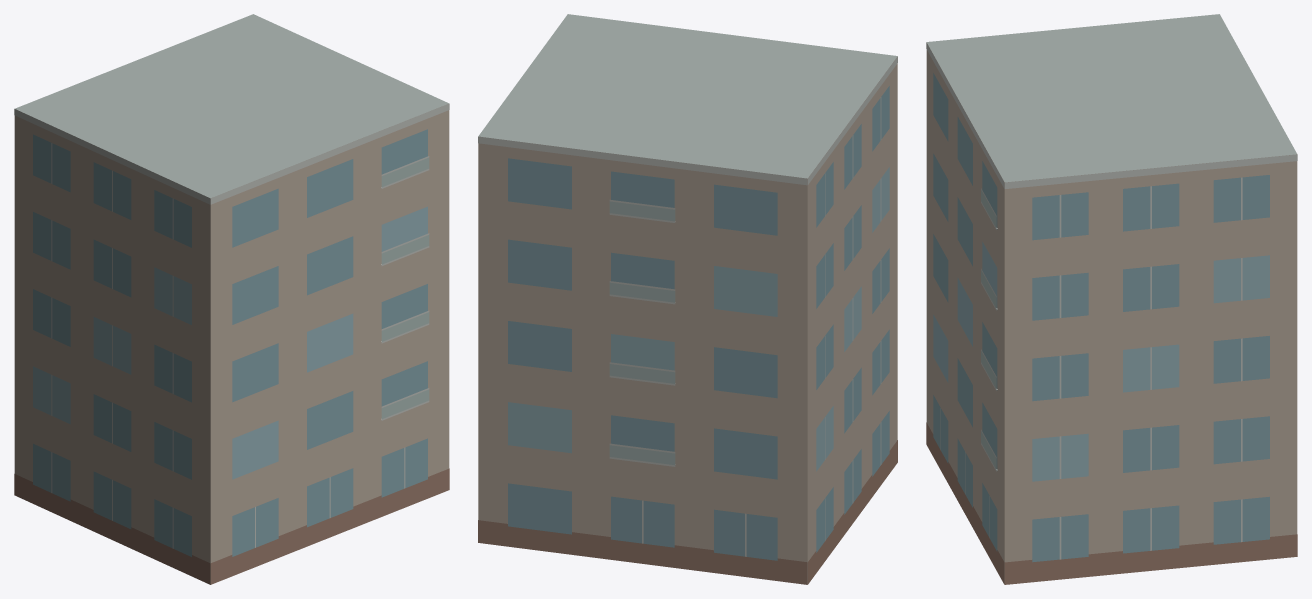
File: survey-upis-32671609.glb
The picture shows the model from 3 angles, left to right: view 1: azimuth 30°, elevation 25°; view 2: azimuth 150°, elevation 25°; view 3: azimuth 270°, elevation 25°; orthographic projection. The views are drawn at different scales.
Visible parts, largest first — view 1: survey-upis-32671609.tmp; view 2: survey-upis-32671609.tmp; view 3: survey-upis-32671609.tmp.
Boxes of the visible parts, left/top/right/bottom form: survey-upis-32671609.tmp: left=14, top=14, right=449, bottom=584; survey-upis-32671609.tmp: left=478, top=14, right=897, bottom=584; survey-upis-32671609.tmp: left=926, top=14, right=1297, bottom=584.
Size of the model in its own units: 13.03 by 14.5 by 12.13.
